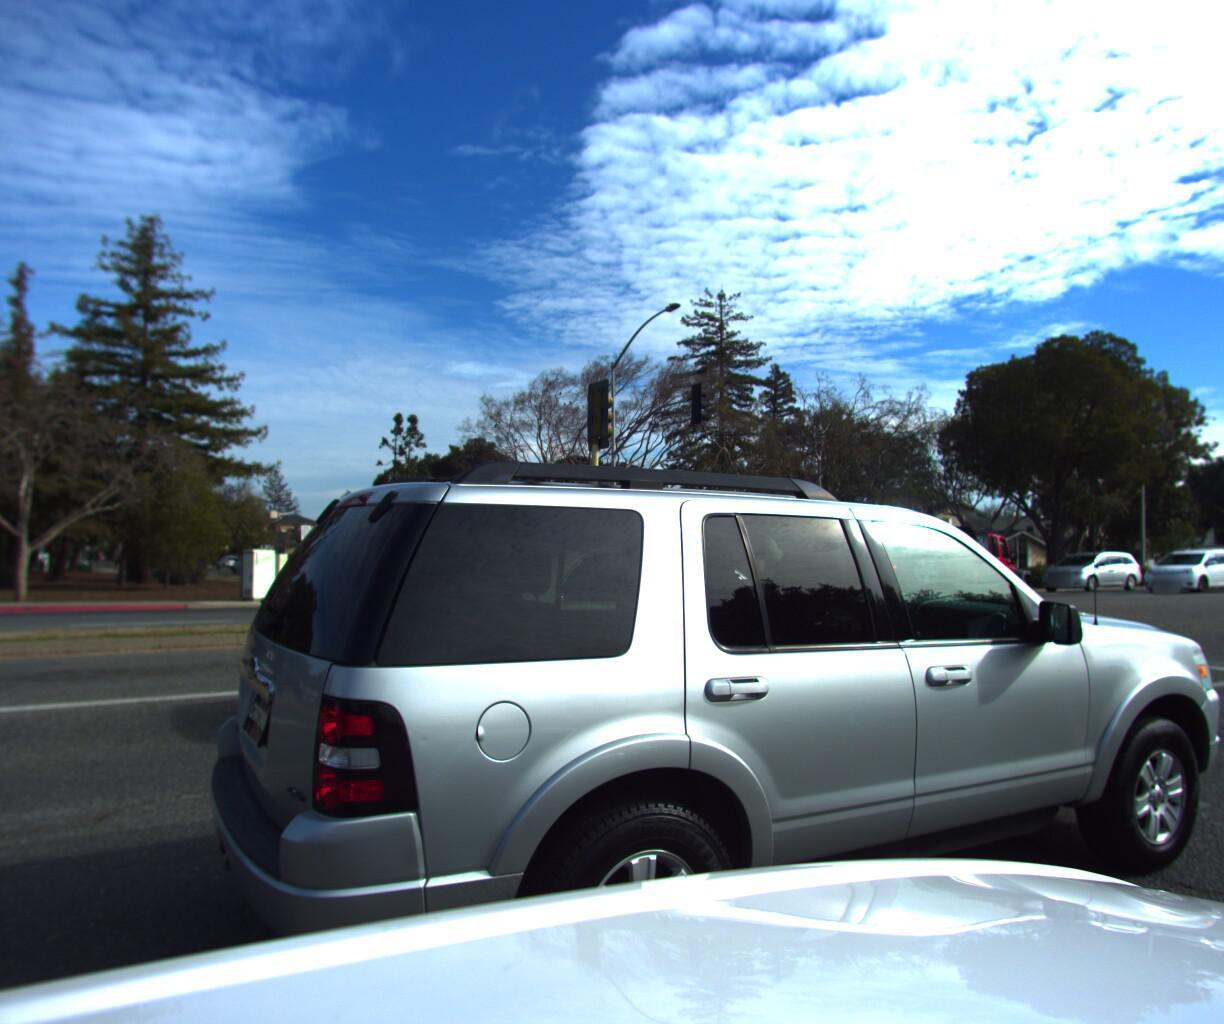car: (198, 407, 1224, 1024), (884, 522, 1035, 622), (1029, 546, 1145, 590), (1133, 543, 1224, 589), (1223, 552, 1224, 586)
truck: (1139, 533, 1224, 585)
